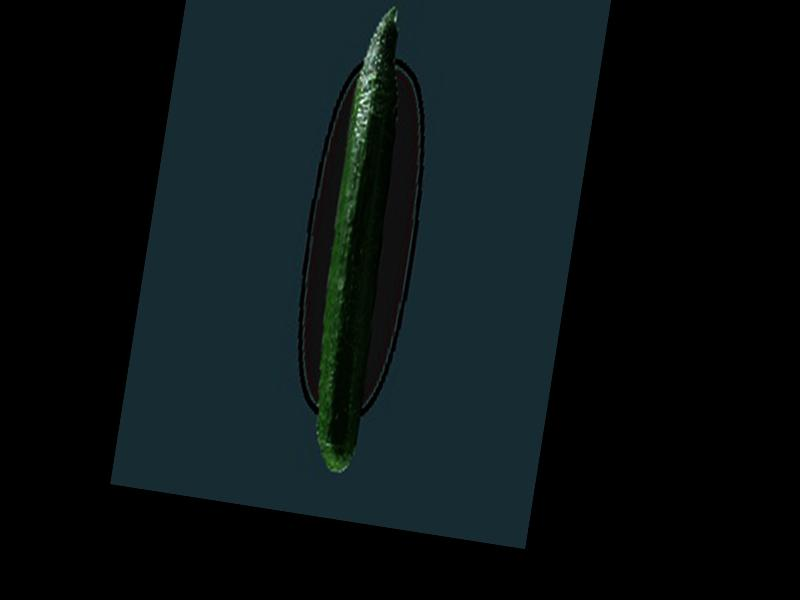Cucumber: (296, 2, 426, 476)
